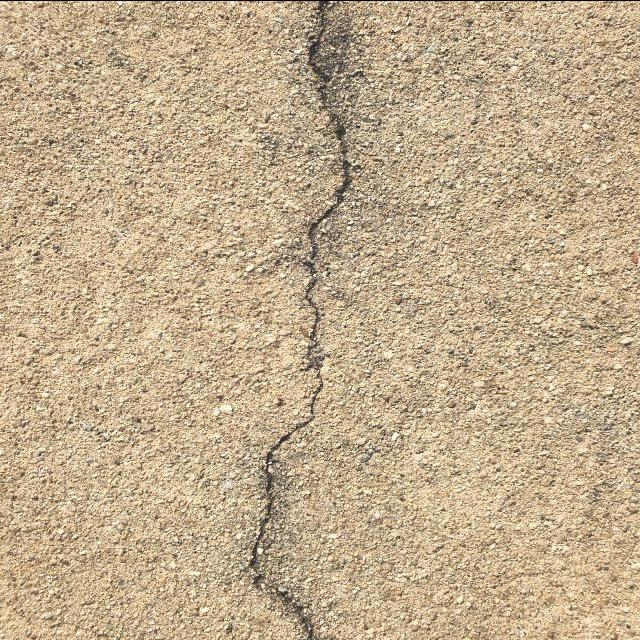SurfaceCrack: (216, 0, 404, 639)
